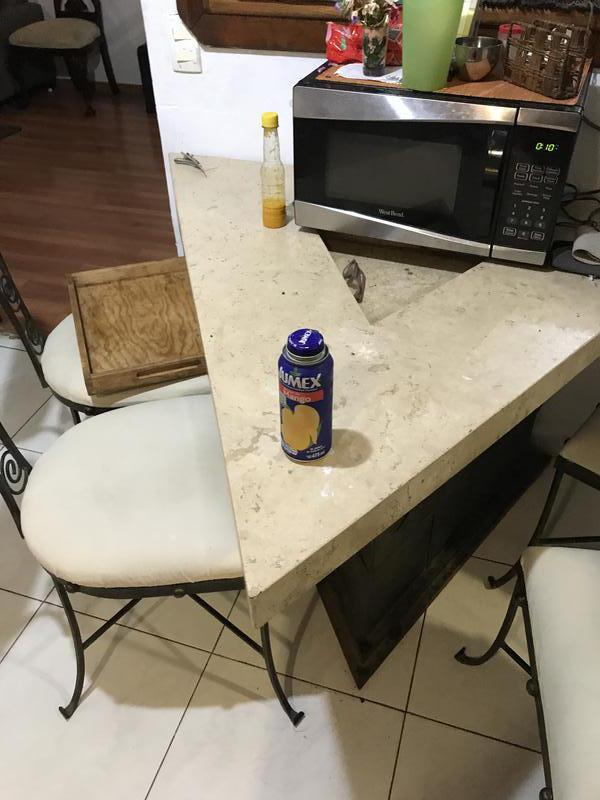jugo_jumex: (275, 328, 335, 460)
